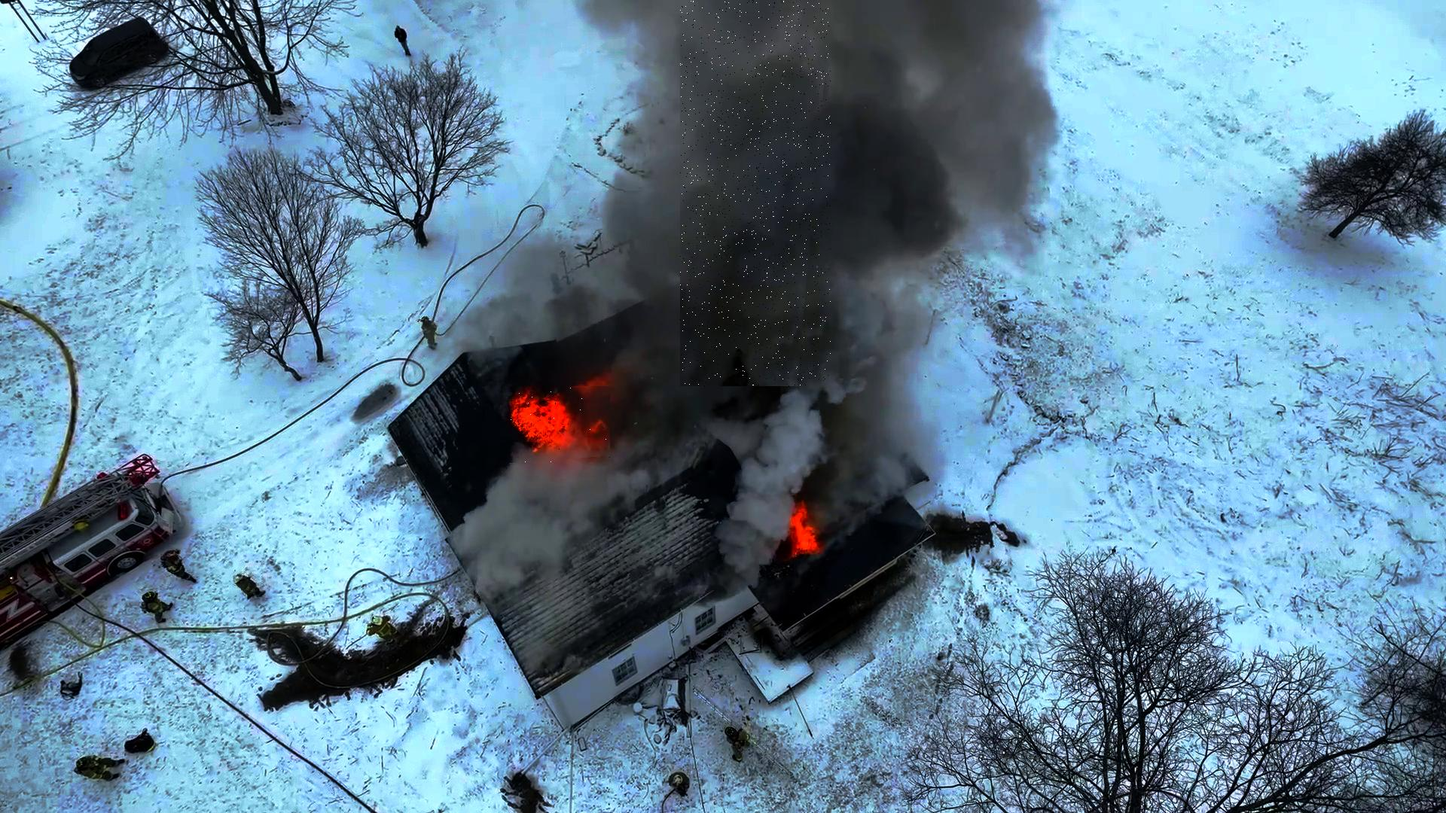fire: (501, 386, 612, 464)
smoke: (680, 0, 831, 386)
